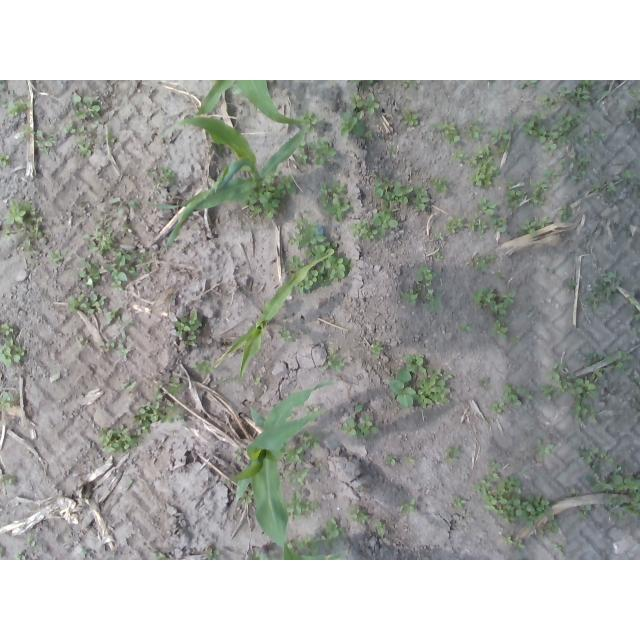Maize: (160, 119, 328, 249), (227, 381, 334, 560), (227, 249, 334, 380), (194, 80, 316, 126), (258, 544, 349, 560)
Weeds: (284, 218, 353, 294), (476, 473, 549, 528), (2, 199, 47, 270), (238, 170, 297, 219), (387, 354, 427, 410), (102, 247, 151, 292), (539, 110, 587, 154), (605, 465, 640, 519), (349, 207, 398, 241), (80, 210, 116, 255), (318, 177, 351, 224), (370, 171, 414, 206), (414, 368, 453, 407), (471, 286, 516, 318), (340, 404, 379, 440), (469, 144, 500, 189), (100, 423, 144, 454), (570, 376, 598, 424), (416, 266, 444, 311), (172, 311, 203, 348), (284, 489, 321, 519), (339, 111, 375, 141), (558, 80, 595, 108), (592, 270, 624, 302), (133, 401, 160, 436), (578, 444, 615, 469), (67, 292, 106, 315), (98, 331, 131, 358), (77, 253, 101, 287), (72, 92, 101, 120), (308, 138, 337, 166), (547, 363, 572, 394), (0, 339, 26, 368), (503, 383, 534, 407), (75, 124, 97, 157), (152, 377, 185, 399), (297, 532, 326, 557), (349, 91, 380, 114), (324, 518, 346, 550), (33, 129, 60, 155), (520, 216, 553, 237), (145, 165, 175, 188), (504, 180, 525, 212), (297, 108, 323, 133), (605, 351, 634, 373), (434, 120, 460, 144), (109, 196, 140, 216), (529, 180, 551, 208), (570, 154, 592, 182), (524, 111, 547, 137), (161, 402, 188, 424), (501, 530, 526, 553), (489, 128, 512, 152), (293, 134, 310, 166), (469, 253, 498, 271), (323, 350, 346, 372), (5, 99, 31, 117), (411, 184, 429, 210), (583, 129, 607, 148), (282, 444, 303, 464), (444, 216, 465, 236), (300, 431, 322, 450), (349, 506, 371, 524), (544, 506, 558, 534), (285, 469, 308, 486), (476, 197, 496, 216), (538, 93, 558, 112), (467, 118, 485, 139), (490, 319, 508, 339), (430, 177, 450, 195), (536, 438, 555, 456), (595, 84, 612, 104), (468, 218, 488, 235), (485, 459, 500, 481), (623, 102, 640, 121), (304, 403, 320, 423), (14, 124, 35, 139), (402, 288, 419, 306), (400, 498, 418, 515), (489, 216, 507, 233), (590, 473, 606, 492), (195, 360, 215, 375), (49, 249, 68, 264), (444, 446, 461, 462), (99, 129, 116, 145), (402, 110, 418, 127), (575, 505, 592, 520), (120, 221, 135, 238), (585, 349, 603, 363), (589, 368, 607, 382), (539, 169, 561, 180), (557, 204, 571, 221), (371, 339, 384, 357), (105, 309, 120, 324), (584, 295, 600, 309), (452, 495, 466, 510), (491, 401, 506, 415), (552, 542, 565, 558), (149, 550, 169, 560), (507, 117, 525, 128), (239, 490, 253, 504), (620, 169, 632, 185), (478, 376, 490, 392), (454, 147, 466, 163), (1, 151, 12, 168), (251, 549, 268, 560), (375, 520, 386, 537), (0, 323, 14, 336), (119, 381, 137, 391), (206, 548, 221, 560), (517, 80, 539, 88), (63, 123, 76, 136), (279, 327, 291, 341), (1, 476, 16, 487), (402, 80, 418, 90), (566, 280, 578, 292), (629, 309, 640, 322), (607, 181, 617, 195), (285, 537, 295, 551), (630, 86, 640, 100), (458, 321, 471, 331), (566, 488, 580, 497), (591, 181, 602, 192), (386, 455, 397, 466), (75, 336, 85, 348), (433, 230, 444, 240), (433, 251, 443, 262), (494, 270, 506, 279), (234, 449, 242, 462), (349, 80, 375, 84), (558, 157, 568, 167), (15, 552, 26, 561), (28, 537, 37, 547), (405, 455, 416, 463), (631, 327, 640, 336), (511, 337, 520, 346), (627, 293, 634, 304), (0, 545, 4, 559), (389, 146, 396, 153), (0, 96, 4, 107), (0, 81, 6, 88)
